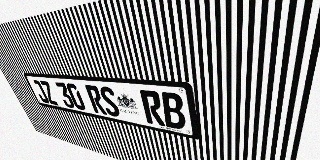0: (65, 83, 87, 111)
3: (55, 82, 76, 109)
B: (159, 92, 187, 130)
J: (31, 80, 50, 104)
R: (139, 90, 165, 126), (84, 85, 107, 115)
S: (98, 86, 121, 118)
Z: (39, 80, 59, 105)
